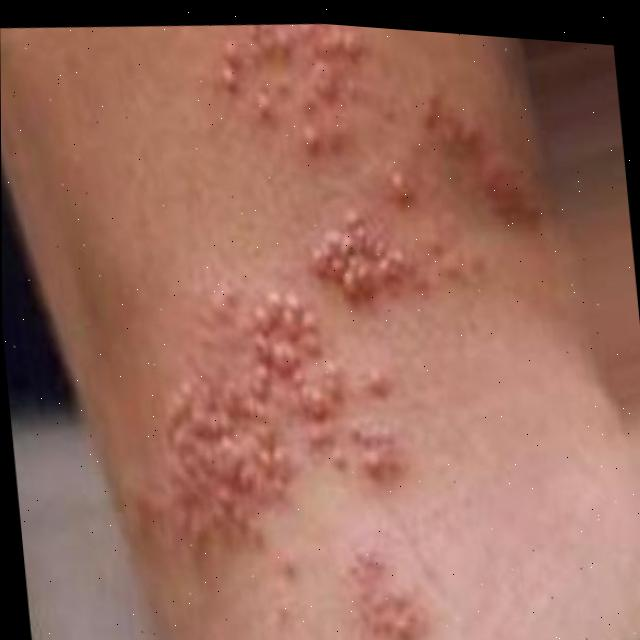Shingles: (113, 281, 433, 640), (217, 16, 395, 177), (421, 77, 553, 245), (304, 196, 437, 312)
